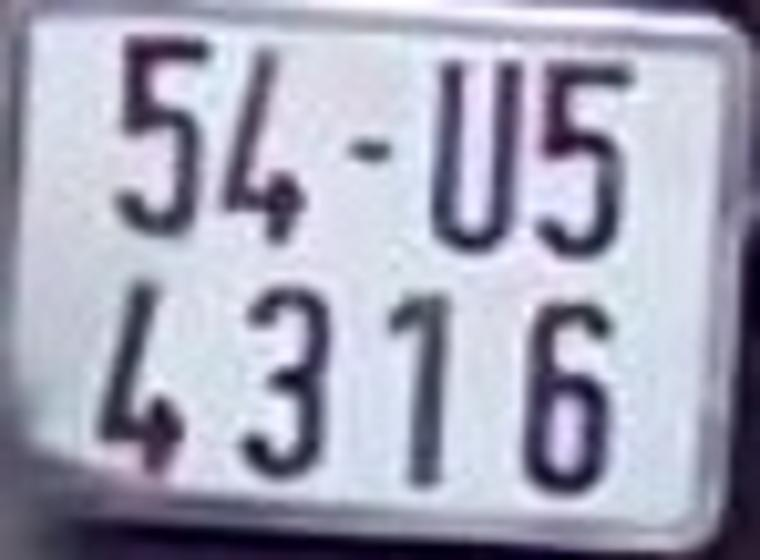-: (342, 135, 399, 169)
1: (388, 287, 454, 497)
3: (239, 286, 337, 479)
4: (92, 285, 190, 480), (219, 49, 312, 244)
5: (539, 56, 642, 263), (117, 30, 213, 239)
6: (517, 297, 616, 499)
U: (428, 57, 526, 256)
